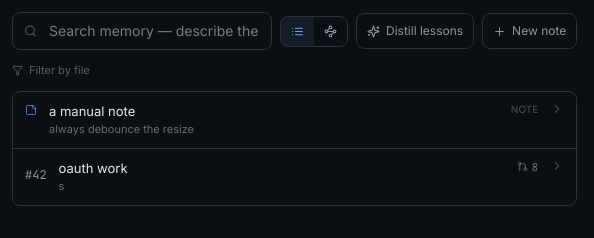
MemoryBrowser — notes and file filtering › filters the list via the file dropdown and clears from the chip
Check: the text "oauth work" is shown, box [59, 160, 128, 176]
Click the button "Filter by file" at (51, 70), box [12, 62, 90, 78]
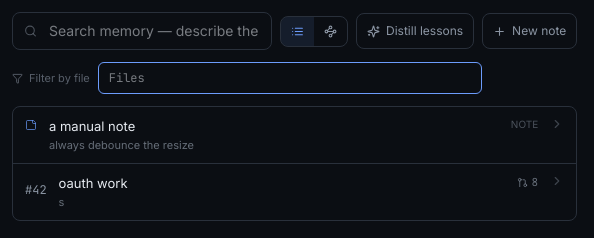
Type "terminal" into the field with placeholder "Files" at (290, 78), box [98, 62, 482, 94]
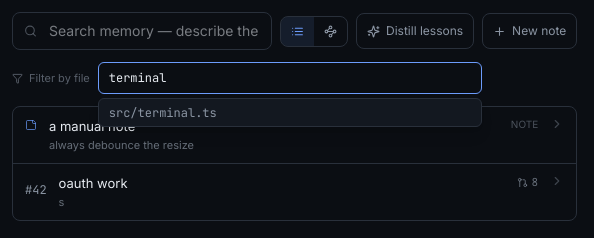
Click the button "src/terminal.ts" at (163, 113), box [99, 100, 481, 126]
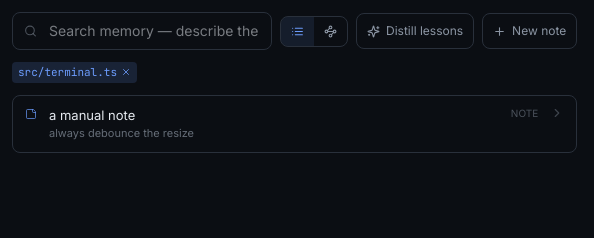
Check: the text "a manual note" is shown, box [49, 106, 135, 122]
Check: the button "oauth work" is gone
Check: the text "src/terminal.ts" is shown, box [12, 62, 137, 82]
Click the button named "clear filter src/terminal.ts" at (126, 72), box [121, 67, 131, 77]
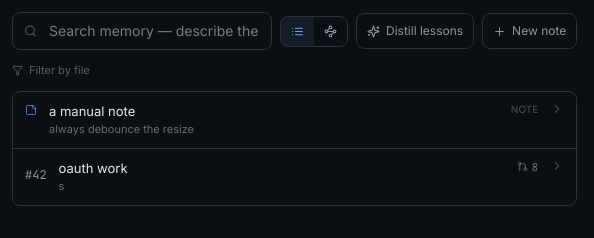
Check: the text "oauth work" is shown, box [59, 160, 128, 176]
